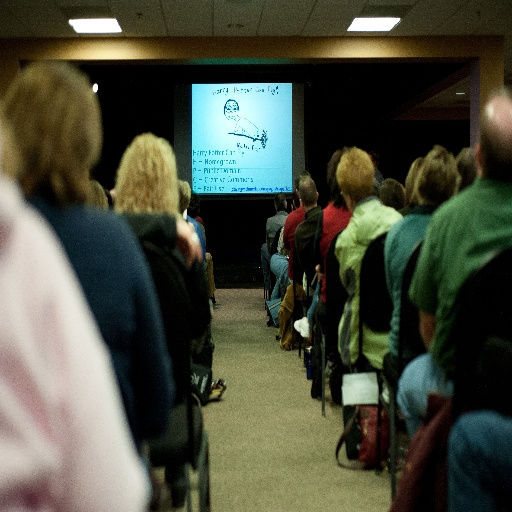hand: (417, 214, 441, 351), (175, 220, 202, 267), (315, 261, 324, 282)
